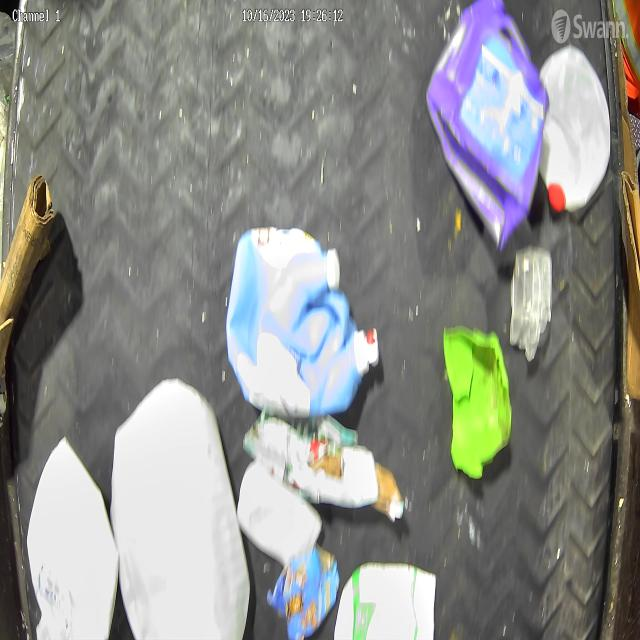milk_jug: (109, 373, 253, 640), (26, 433, 119, 640), (537, 42, 613, 215)
non_white_jug: (424, 0, 549, 255), (225, 224, 382, 421)
